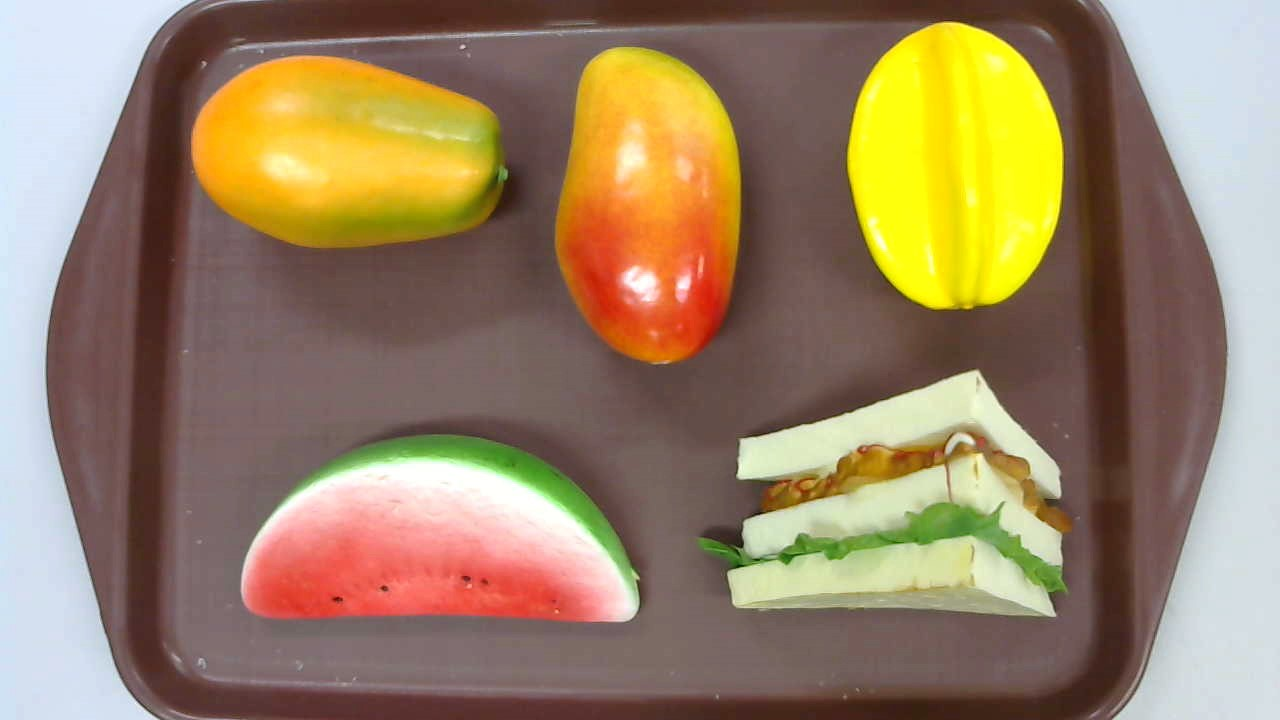papaya: (188, 56, 510, 247)
red mango: (554, 44, 741, 364)
sandwich: (698, 369, 1073, 616)
star fruit: (847, 22, 1064, 309)
watermelon: (240, 433, 640, 623)
